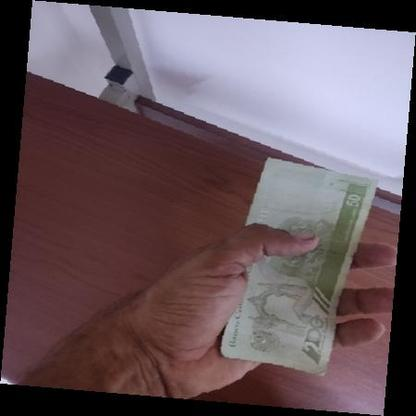fifty-back-vef: (220, 158, 380, 376)
